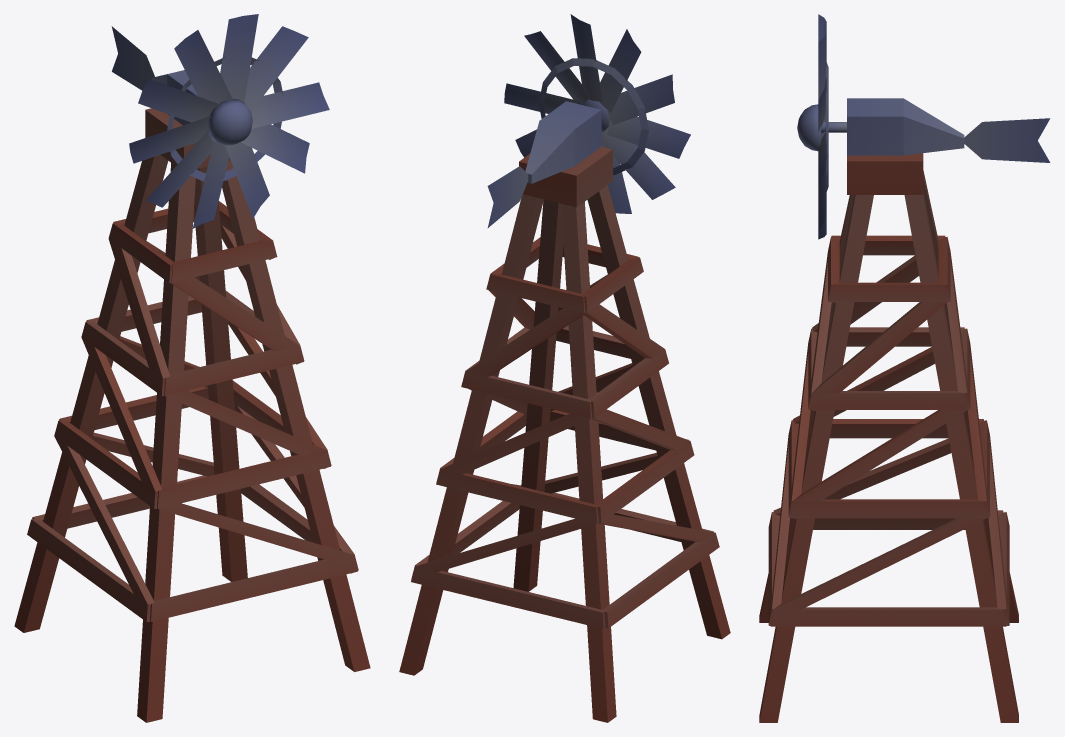
File: windmill.fbx
The picture shows the model from 3 angles, left to right: view 1: azimuth 30°, elevation 25°; view 2: azimuth 150°, elevation 25°; view 3: azimuth 270°, elevation 25°; orthographic projection. The views are drawn at different scales.
Parts seen in each view (by area): view 1: Cylinder, Cube.007, Cube.010; view 2: Cylinder, Cube.007, Cube.010; view 3: Cylinder, Cube.010, Cube.007.
Part boxes in pixels (<box>): Cylinder: <box>14,14,370,722</box>; Cube.007: <box>32,208,357,621</box>; Cube.010: <box>27,201,358,621</box>; Cylinder: <box>399,14,730,722</box>; Cube.007: <box>411,244,713,628</box>; Cube.010: <box>411,237,719,628</box>; Cylinder: <box>759,14,1050,722</box>; Cube.010: <box>770,235,1005,626</box>; Cube.007: <box>768,236,1009,626</box>.
Bounding box in the file's own units: 352 × 979 × 403.
